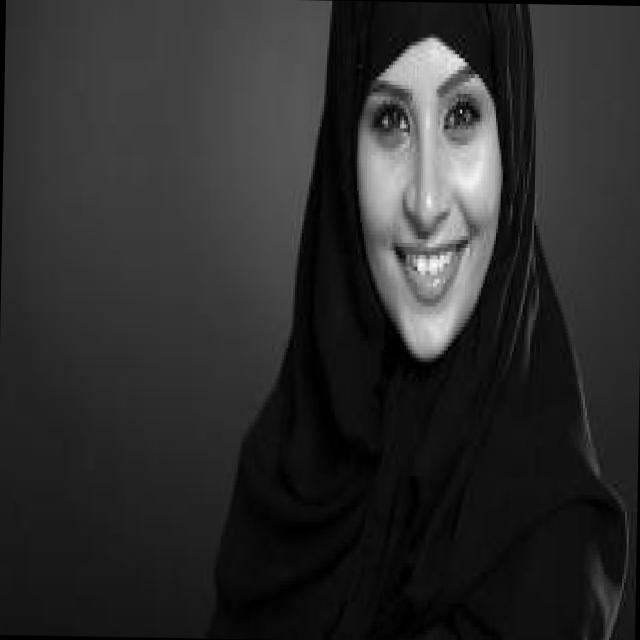Focused: (357, 2, 504, 342)
